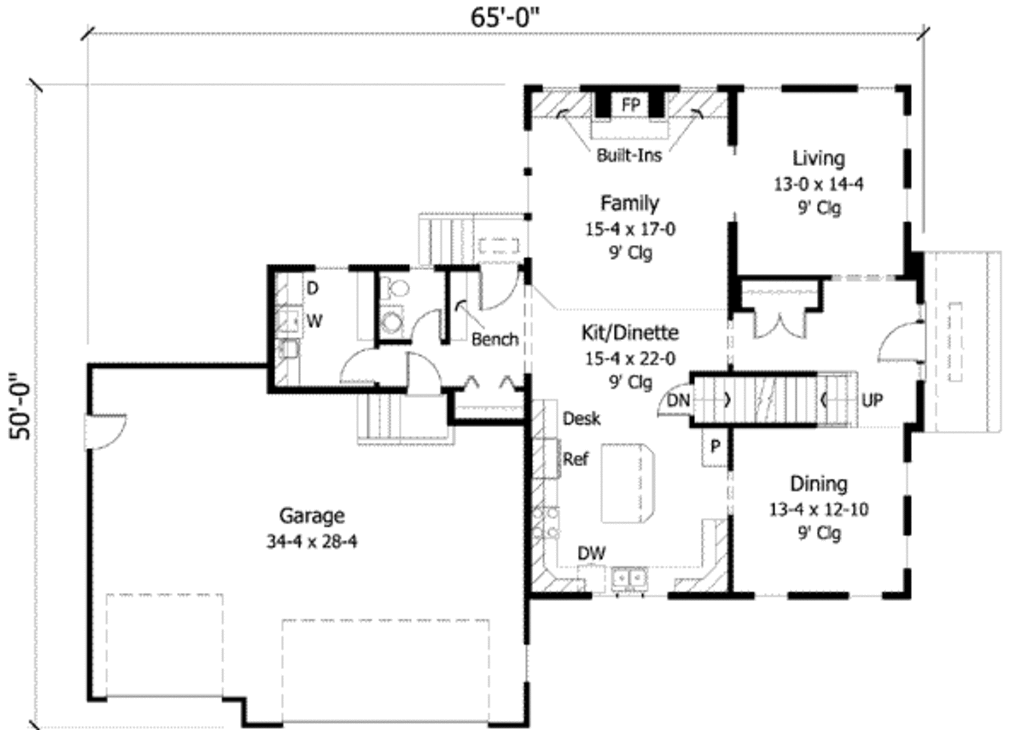door: (874, 320, 926, 368), (77, 409, 129, 451), (747, 309, 808, 344), (477, 264, 521, 312), (336, 346, 380, 389), (403, 349, 443, 392), (405, 305, 446, 345)
kitchen_bar: (596, 443, 656, 528)
stairs: (686, 369, 860, 430), (417, 209, 529, 271), (352, 392, 455, 448)
twin_sink: (608, 565, 653, 595)
windows: (899, 110, 916, 226), (902, 457, 913, 570)
